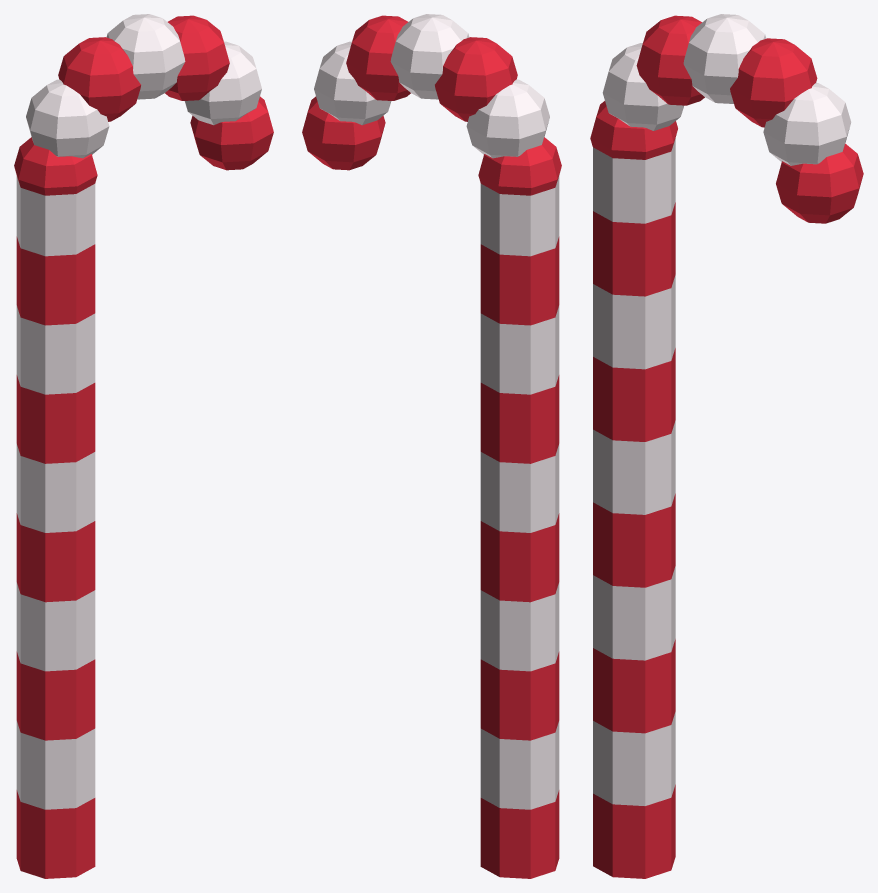
Rendered from CandyCane.fbx.
3 views of the same model, side by side, from view 1: azimuth 30°, elevation 25°; view 2: azimuth 150°, elevation 25°; view 3: azimuth 330°, elevation 25° (orthographic). The views are drawn at different scales.
Visible parts, largest first — view 1: CandyRed, CandyWhite; view 2: CandyRed, CandyWhite; view 3: CandyRed, CandyWhite.
Boxes of the visible parts, bbox=[...] form: CandyRed: bbox=[14, 15, 273, 878]; CandyWhite: bbox=[16, 14, 261, 809]; CandyRed: bbox=[302, 15, 561, 878]; CandyWhite: bbox=[314, 14, 559, 809]; CandyRed: bbox=[590, 15, 863, 878]; CandyWhite: bbox=[593, 14, 851, 805].
Bounding box in the file's own units: 1.14 × 3.57 × 0.34.
